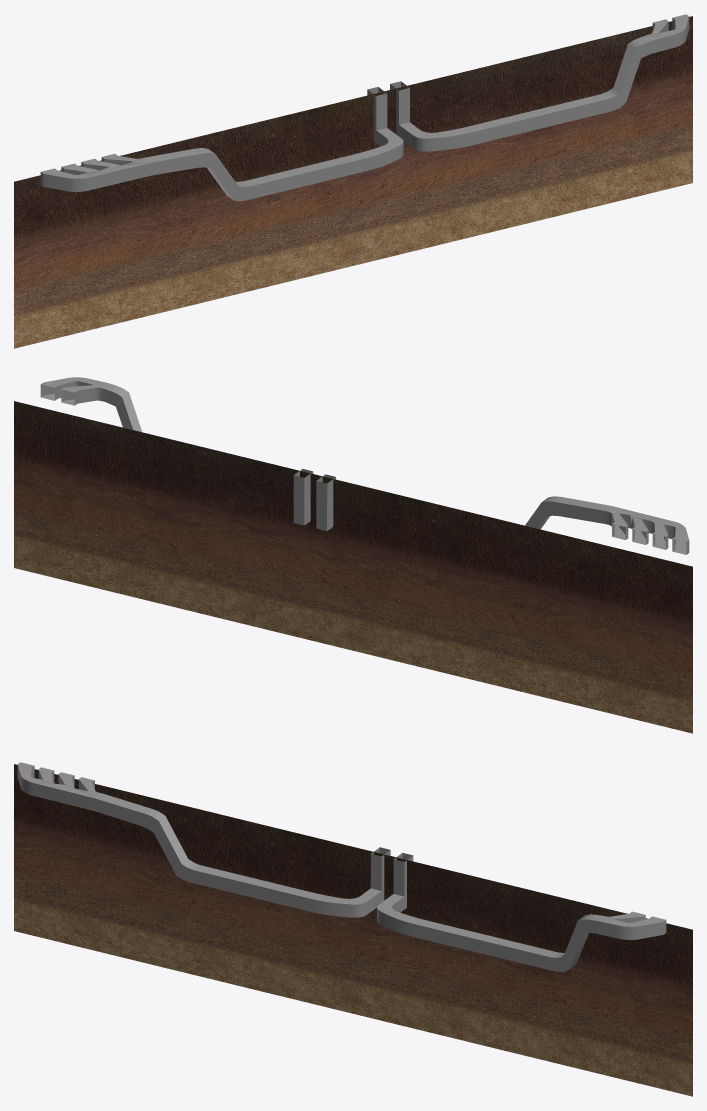
Rendered from ShuiLiu.fbx.
3 views of the same model, one above another, from view 1: azimuth 30°, elevation 25°; view 2: azimuth 150°, elevation 25°; view 3: azimuth 330°, elevation 25° (orthographic).
Parts seen in each view (by area): view 1: Plane004, ShuiLiu1, ShuiLiu2; view 2: Plane004, ShuiLiu1, ShuiLiu2; view 3: Plane004, ShuiLiu1, ShuiLiu2.
Boxes of the visible parts, left/top/right/bottom form: Plane004: left=14, top=16, right=692, bottom=348; ShuiLiu1: left=40, top=87, right=403, bottom=201; ShuiLiu2: left=390, top=14, right=689, bottom=151; Plane004: left=14, top=401, right=692, bottom=733; ShuiLiu1: left=316, top=474, right=689, bottom=554; ShuiLiu2: left=40, top=377, right=313, bottom=525; Plane004: left=14, top=764, right=692, bottom=1096; ShuiLiu1: left=17, top=762, right=390, bottom=917; ShuiLiu2: left=377, top=853, right=666, bottom=972.
Bounding box in the file's own units: 168674 × 42790 × 14918.
